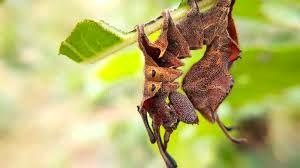Lobster Moth: (126, 2, 245, 135)
